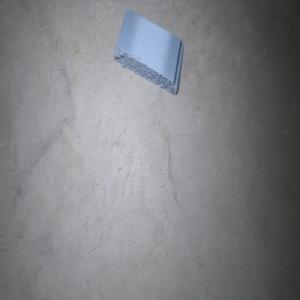PlasticPart: (113, 8, 184, 95)
